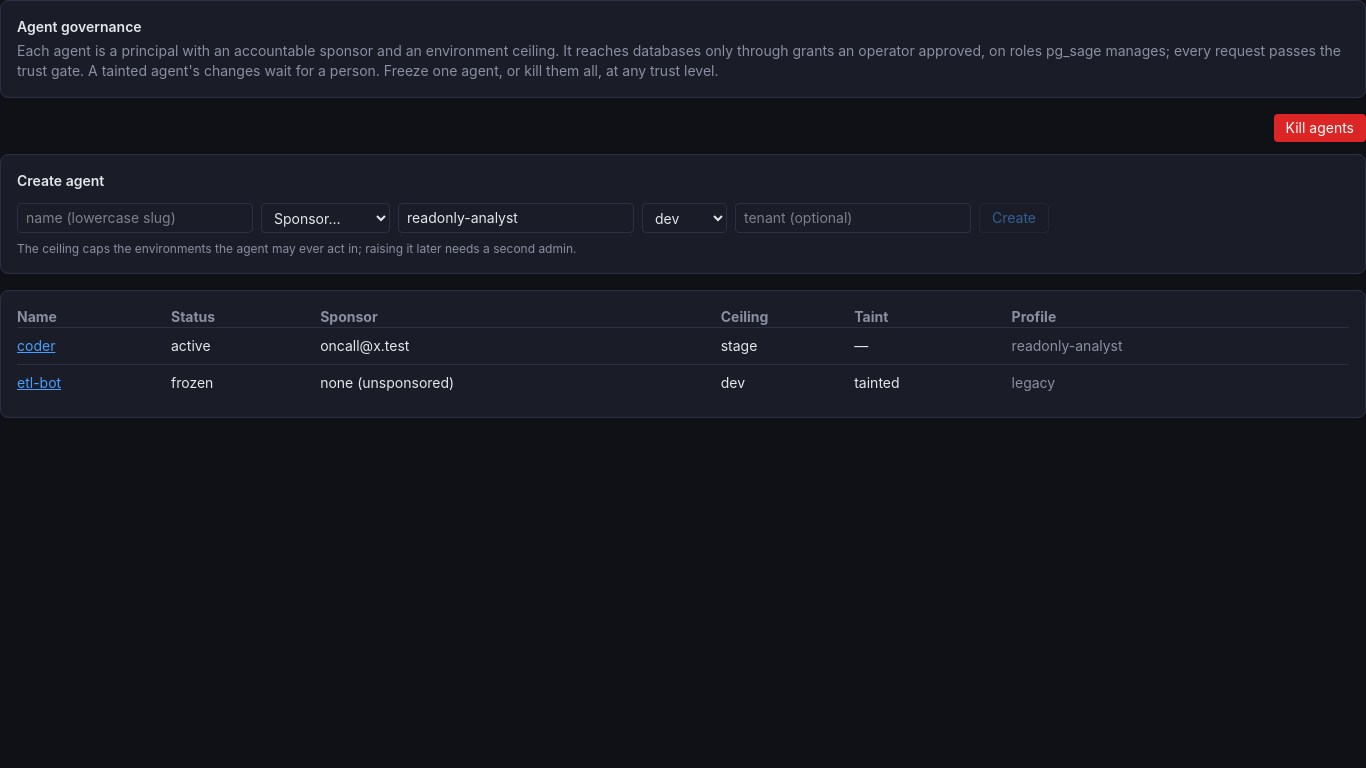
Test: AgentsPage kill switch › needs the typed phrase and a reason, then shows the per-database report
Expected: the table with test id "agents-table" is shown, [17, 307, 1349, 401]
Click the button with test id "agents-kill-open". click: click(1320, 128)
box: [1274, 114, 1365, 142]
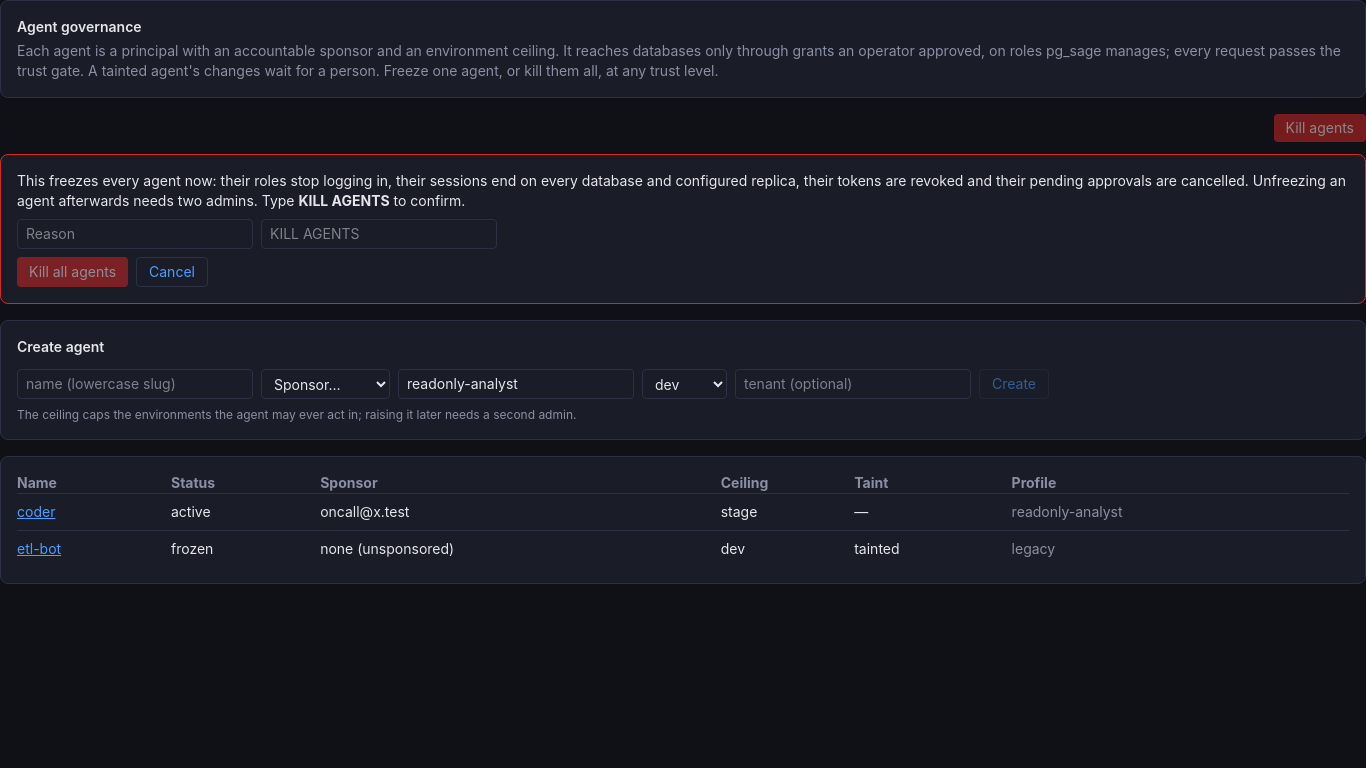
Expected: the dialog with test id "agents-kill-dialog" shows "KILL AGENTS", [298, 192, 390, 209]
Expected: the button with test id "agents-kill-confirm" is disabled, [17, 257, 128, 287]
Type "runaway agent" into the field with test id "agents-kill-reason". click: (135, 234)
box: [17, 219, 253, 249]
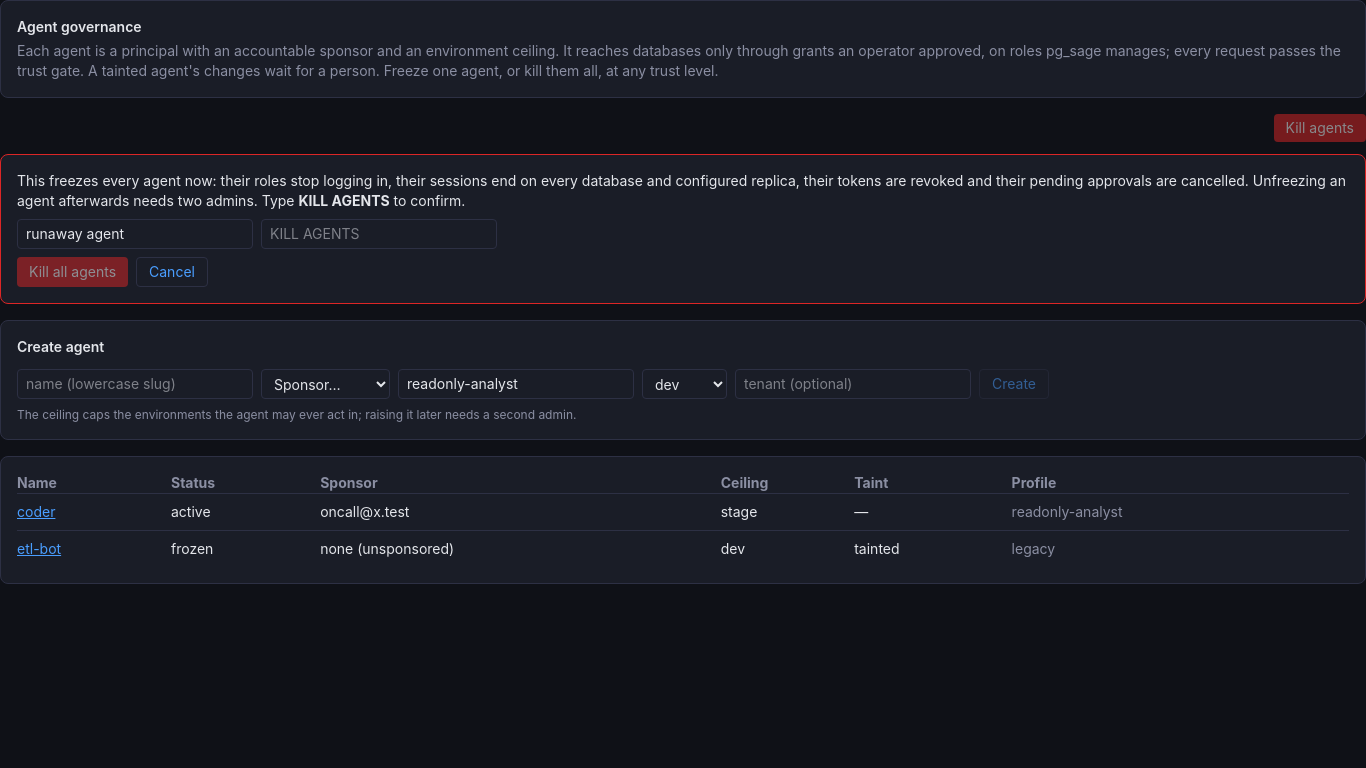
Type "kill agents" into the field with test id "agents-kill-phrase". click: (379, 234)
box: [261, 219, 497, 249]
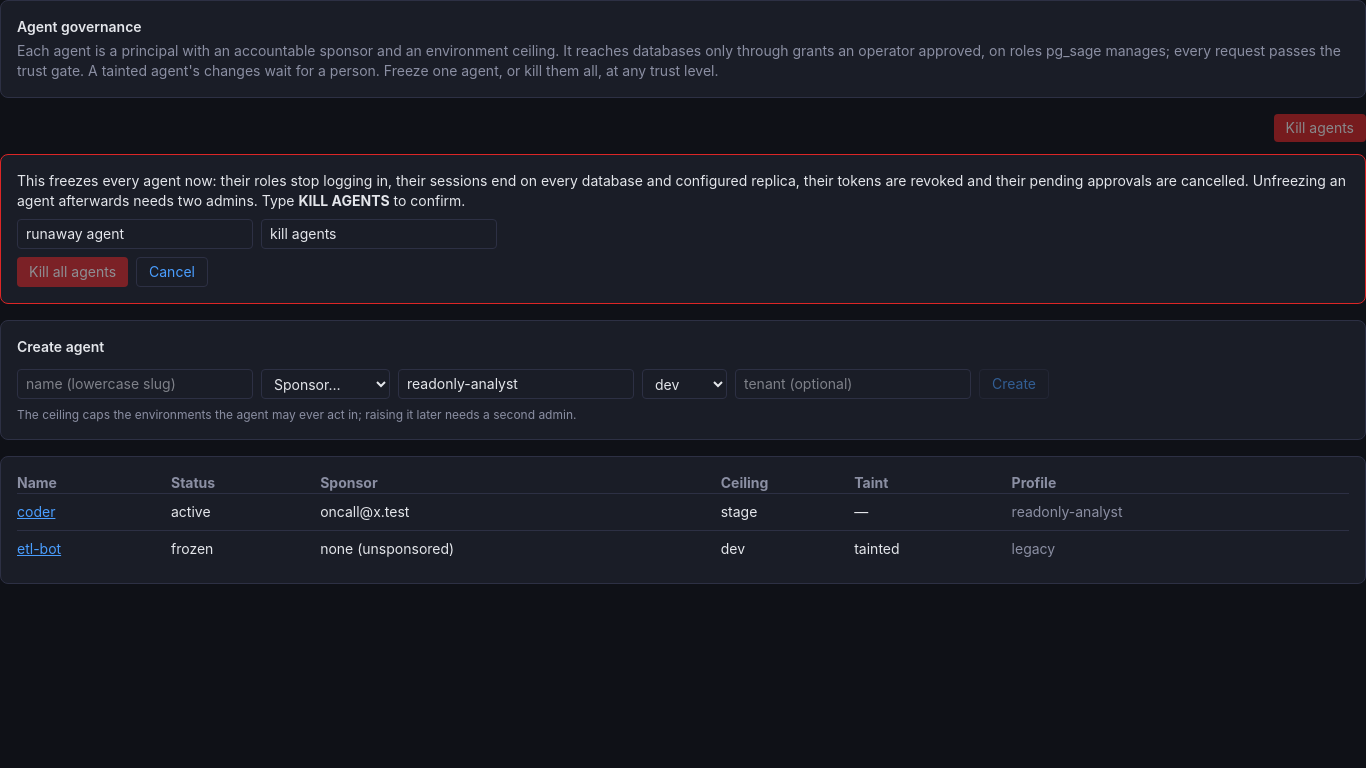
Expected: the button with test id "agents-kill-confirm" is disabled, [17, 257, 128, 287]
Replace the text in the field with test id "agents-kill-phrase" with "KILL AGENTS". click: (379, 234)
box: [261, 219, 497, 249]
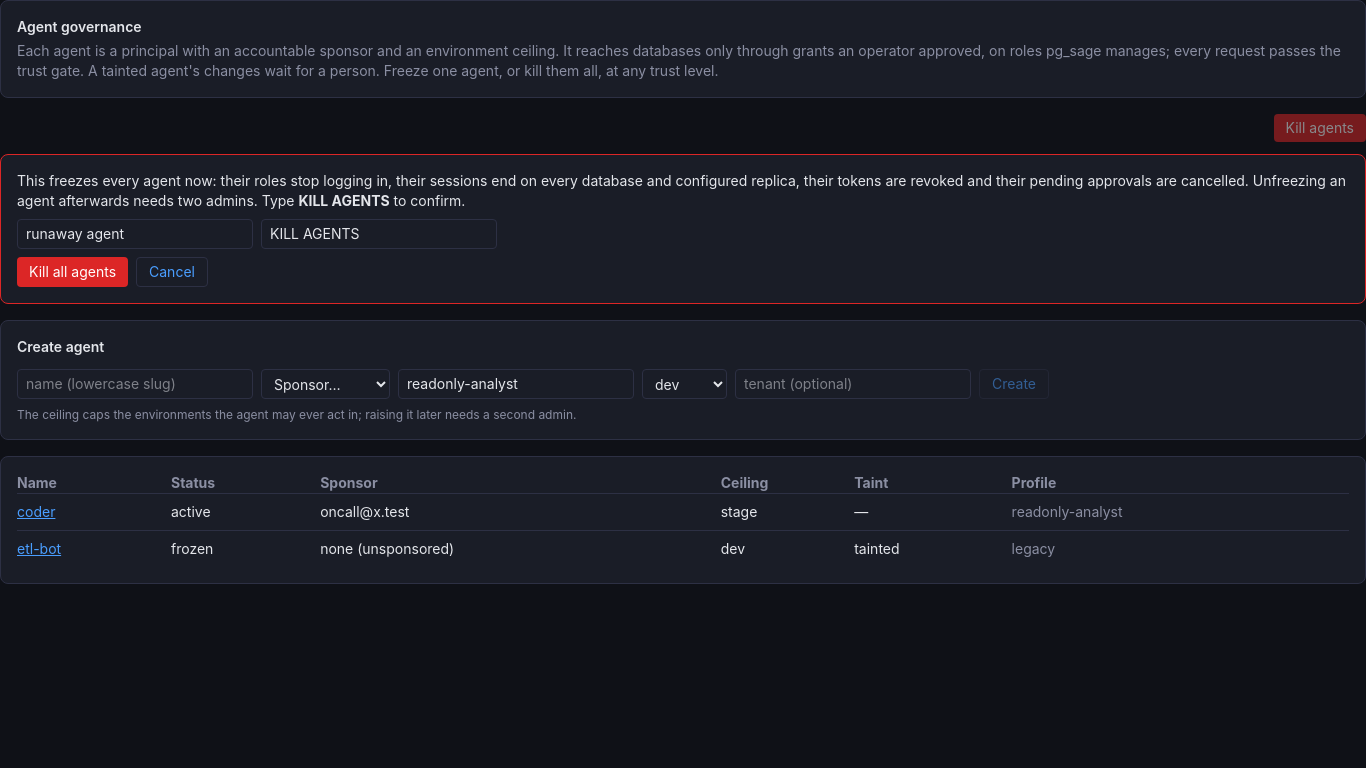
Expected: the button with test id "agents-kill-confirm" is enabled
Click the button with test id "agents-kill-confirm". click: click(72, 272)
box: [17, 257, 128, 287]
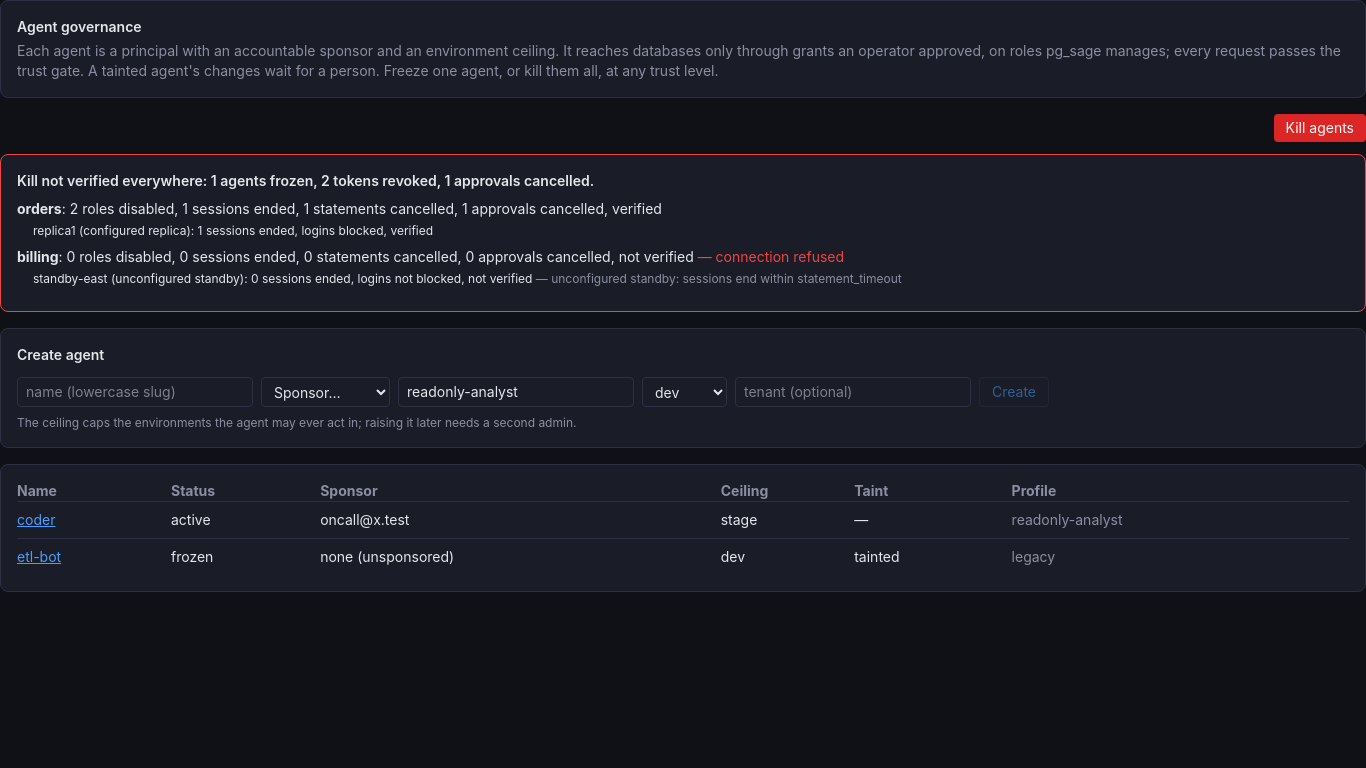
Expected: the element with test id "agents-kill-report" shows "not verified", [619, 248, 694, 265]
Expected: the list item with test id "kill-db-orders" shows "2", [70, 200, 78, 217]
Expected: the list item with test id "kill-db-orders" shows "verified", [612, 200, 662, 217]
